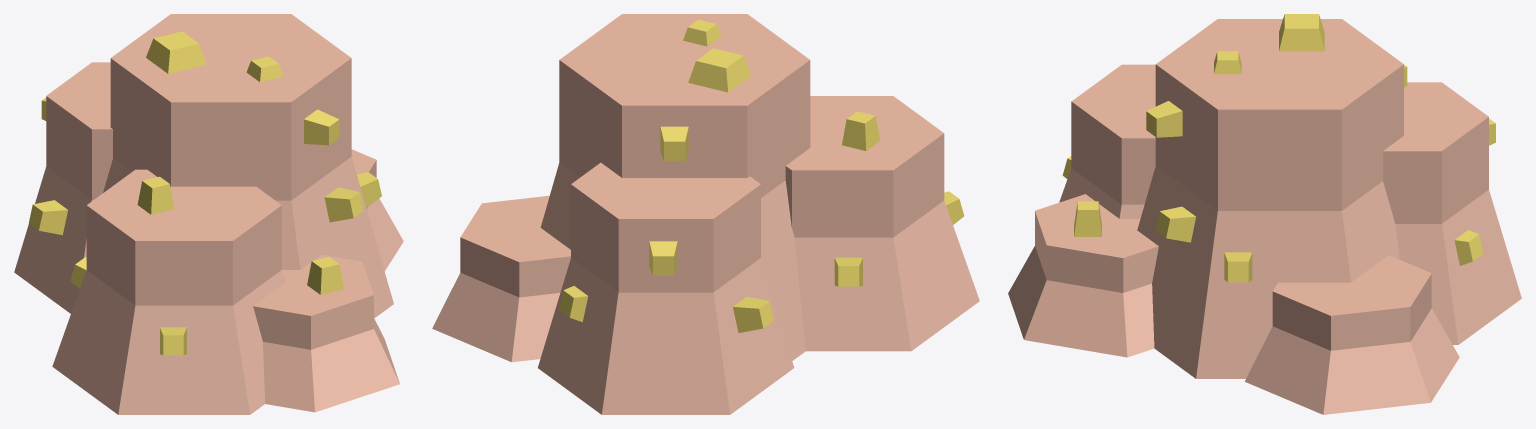
File: rock_crystalsLargeAYellow.glb
3 views of the same model, side by side, from view 1: azimuth 30°, elevation 25°; view 2: azimuth 150°, elevation 25°; view 3: azimuth 270°, elevation 25° (orthographic). The views are drawn at different scales.
Visible parts, largest first — view 1: rock_crystalsLargeA; view 2: rock_crystalsLargeA; view 3: rock_crystalsLargeA.
Boxes of the visible parts, box(x1,y1,x2,y2) form: rock_crystalsLargeA: box(14, 14, 403, 414); rock_crystalsLargeA: box(432, 14, 979, 414); rock_crystalsLargeA: box(1008, 14, 1521, 414).
Bounding box in the file's own units: 0.8339 × 0.541 × 0.9193.
